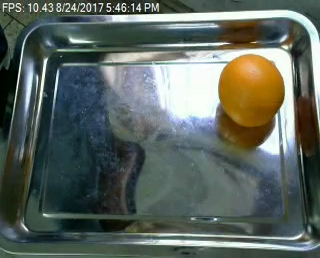Orange: (218, 53, 286, 127)
